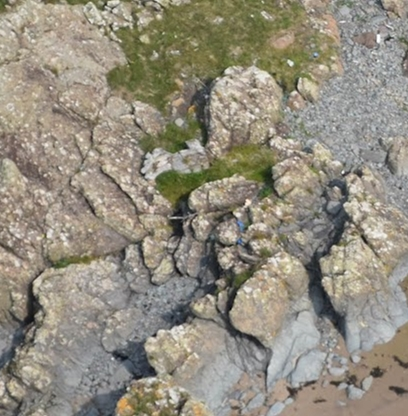white_in_green: (224, 208, 257, 242)
